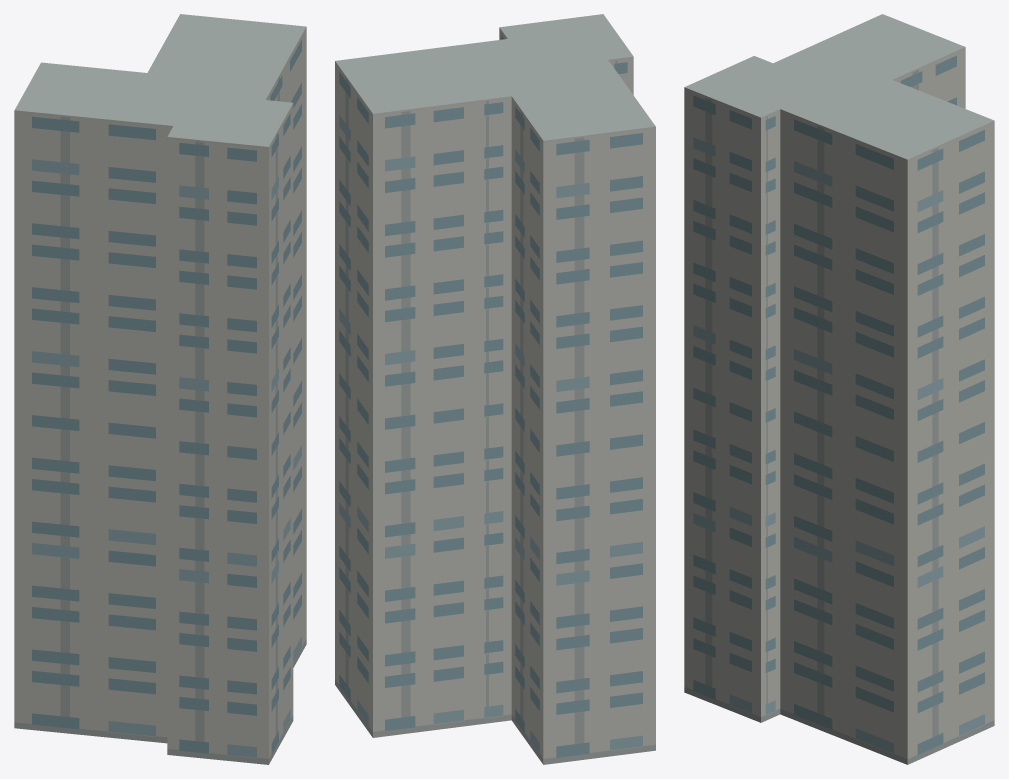
Rendered from residential-ecbd932f-4418-4c78-a434-ee7d3a8cca42.glb.
3 views of the same model, side by side, from view 1: azimuth 30°, elevation 25°; view 2: azimuth 150°, elevation 25°; view 3: azimuth 270°, elevation 25° (orthographic). The views are drawn at different scales.
Visible parts, largest first — view 1: residential-ecbd932f-4418-4c78-a434-ee7d3a8cca42.tmp; view 2: residential-ecbd932f-4418-4c78-a434-ee7d3a8cca42.tmp; view 3: residential-ecbd932f-4418-4c78-a434-ee7d3a8cca42.tmp.
Boxes of the visible parts, x1,y1,x2,y2 form: residential-ecbd932f-4418-4c78-a434-ee7d3a8cca42.tmp: (14, 14, 306, 764); residential-ecbd932f-4418-4c78-a434-ee7d3a8cca42.tmp: (335, 14, 655, 764); residential-ecbd932f-4418-4c78-a434-ee7d3a8cca42.tmp: (684, 14, 994, 764).
Size of the model in its own units: 42.85 by 83 by 38.57.
